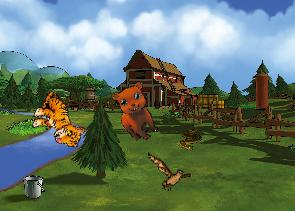bear: (104, 76, 171, 146)
eagle: (142, 152, 194, 194)
tiger: (26, 88, 93, 151)
